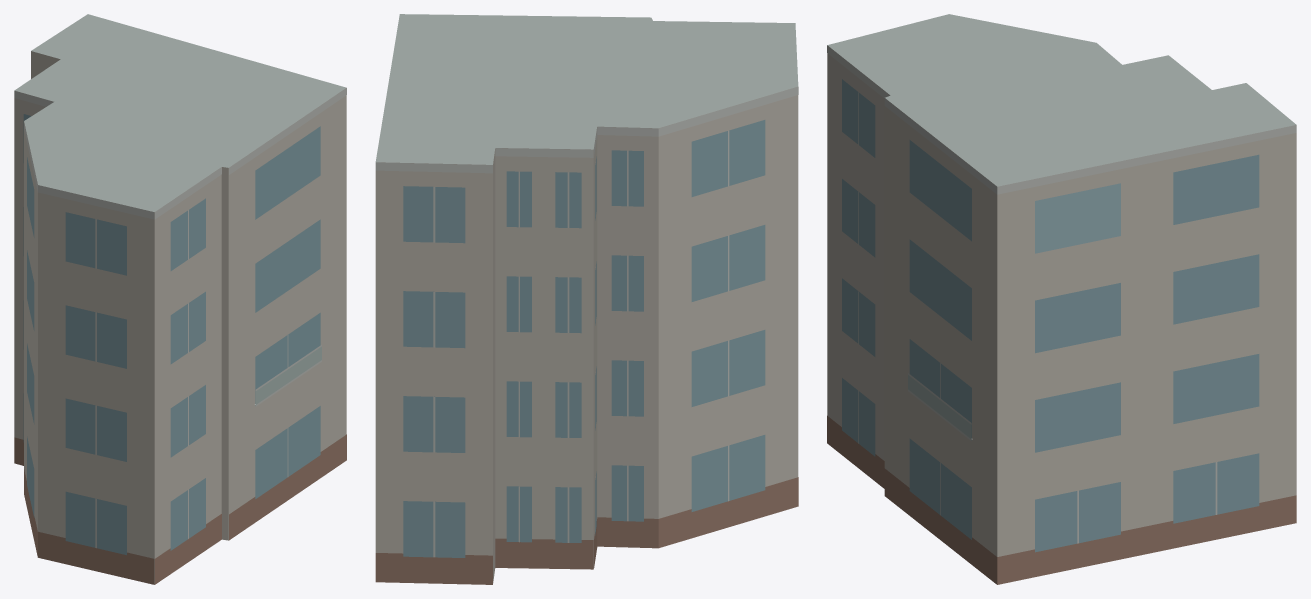
The model's file is survey-upis-32519110.glb.
3 renders of one model, left to right at view 1: azimuth 30°, elevation 25°; view 2: azimuth 150°, elevation 25°; view 3: azimuth 270°, elevation 25°, orthographic. The views are drawn at different scales.
Visible parts, largest first — view 1: survey-upis-32519110.tmp; view 2: survey-upis-32519110.tmp; view 3: survey-upis-32519110.tmp.
Part boxes in pixels (left/top/right/bottom): survey-upis-32519110.tmp: left=14, top=14, right=346, bottom=584; survey-upis-32519110.tmp: left=375, top=14, right=798, bottom=584; survey-upis-32519110.tmp: left=827, top=14, right=1296, bottom=584.
Bounding box in the file's own units: 11.36 × 12.2 × 13.05.
